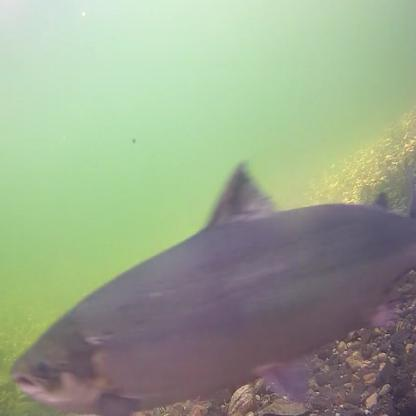salmon: (4, 150, 416, 415)
